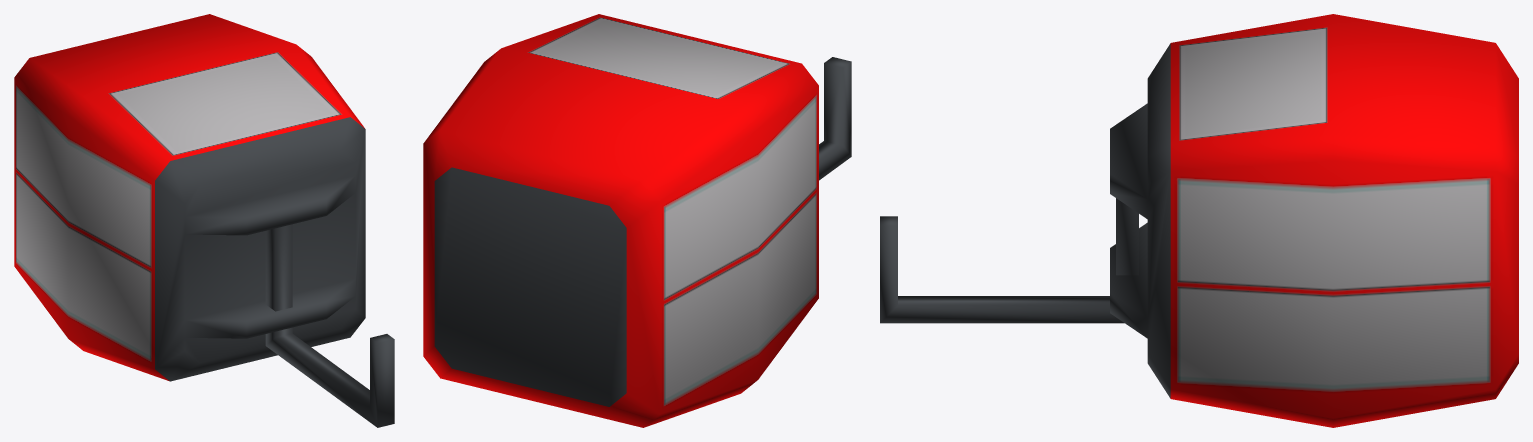
The model's file is Telecabine.obj.
The picture shows the model from 3 angles, left to right: view 1: azimuth 30°, elevation 25°; view 2: azimuth 150°, elevation 25°; view 3: azimuth 270°, elevation 25°; orthographic projection. The views are drawn at different scales.
Parts seen in each view (by area): view 1: Telecabine; view 2: Telecabine; view 3: Telecabine.
Part boxes in pixels (x1,y1,x2,y2): Telecabine: [14, 14, 394, 427]; Telecabine: [423, 14, 851, 427]; Telecabine: [880, 14, 1518, 427].
Size of the model in its own units: 2.83 by 2.83 by 5.57.
Materials: 1 (1 with a texture image).
